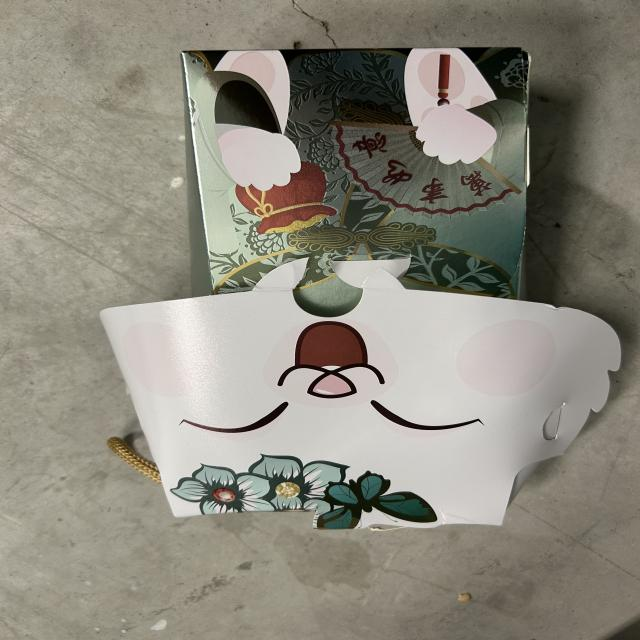object_name: (133, 48, 557, 486)
